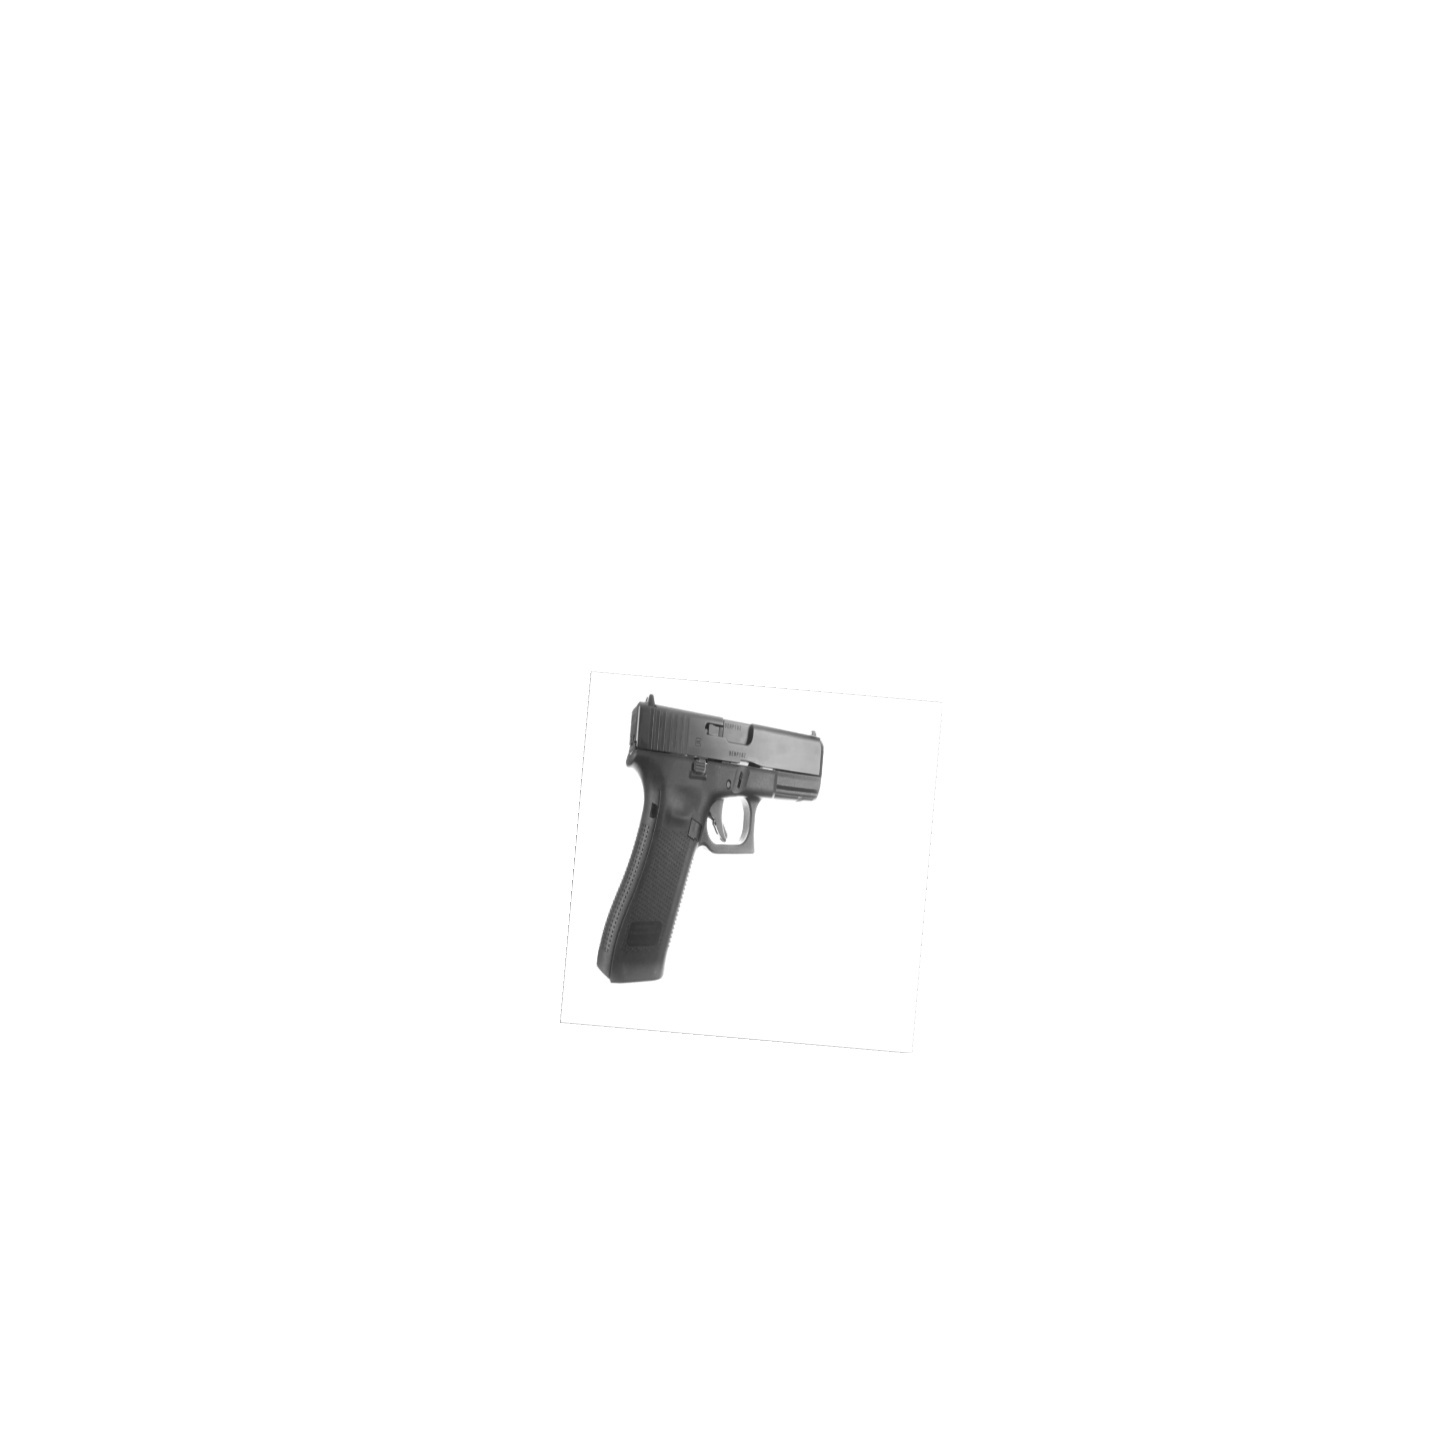gun: (597, 693, 824, 985)
